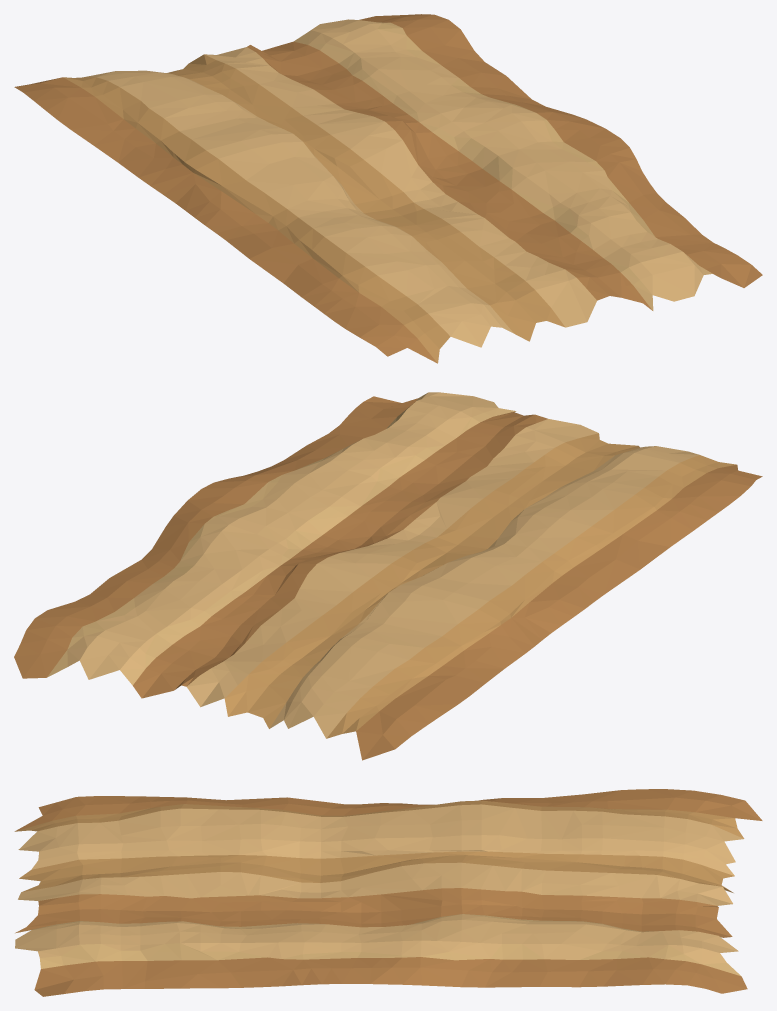
Rendered from EA_M_Env_Patch_Sand_01b.fbx.
3 views of the same model, one above another, from view 1: azimuth 30°, elevation 25°; view 2: azimuth 150°, elevation 25°; view 3: azimuth 270°, elevation 25° (orthographic). The views are drawn at different scales.
Visible parts, largest first — view 1: EA_M_Env_Patch_Sand_01b_LOD0; view 2: EA_M_Env_Patch_Sand_01b_LOD0; view 3: EA_M_Env_Patch_Sand_01b_LOD0.
Part boxes in pixels (box(x1,y1,x2,y2)): EA_M_Env_Patch_Sand_01b_LOD0: box(14, 14, 762, 363); EA_M_Env_Patch_Sand_01b_LOD0: box(14, 392, 762, 760); EA_M_Env_Patch_Sand_01b_LOD0: box(14, 789, 762, 996).
Size of what is drawn, in the model's own units: 4.26 by 0.4378 by 7.04.
